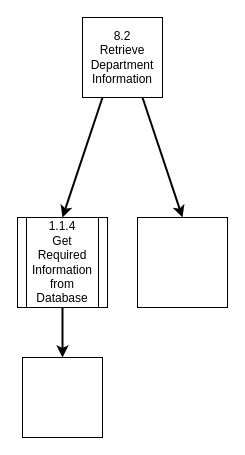
This 245x455 diagram has some shape labels left out. Each missing label, with the centre of its shape:
"8.2.1.1 Retrieve Record of Selected Department" goes at (62,397).
"8.2.2 Display Information of Department Home to be Edited" goes at (182,262).
